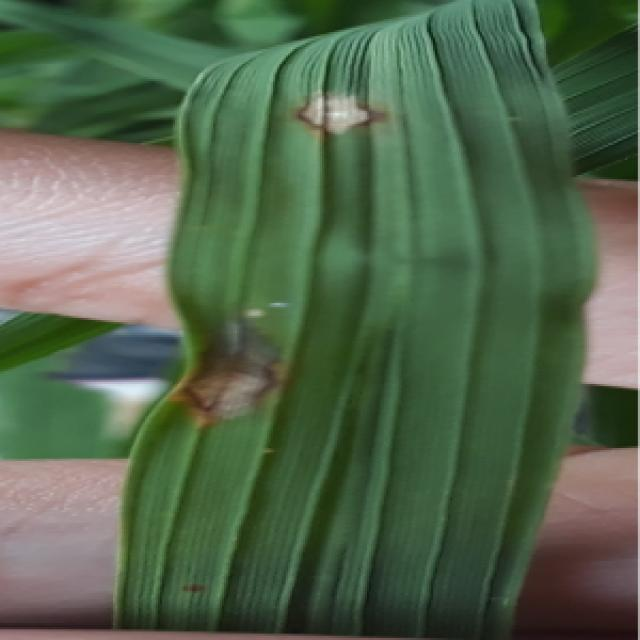Brown_Spot: (175, 317, 296, 425), (298, 87, 391, 146)
